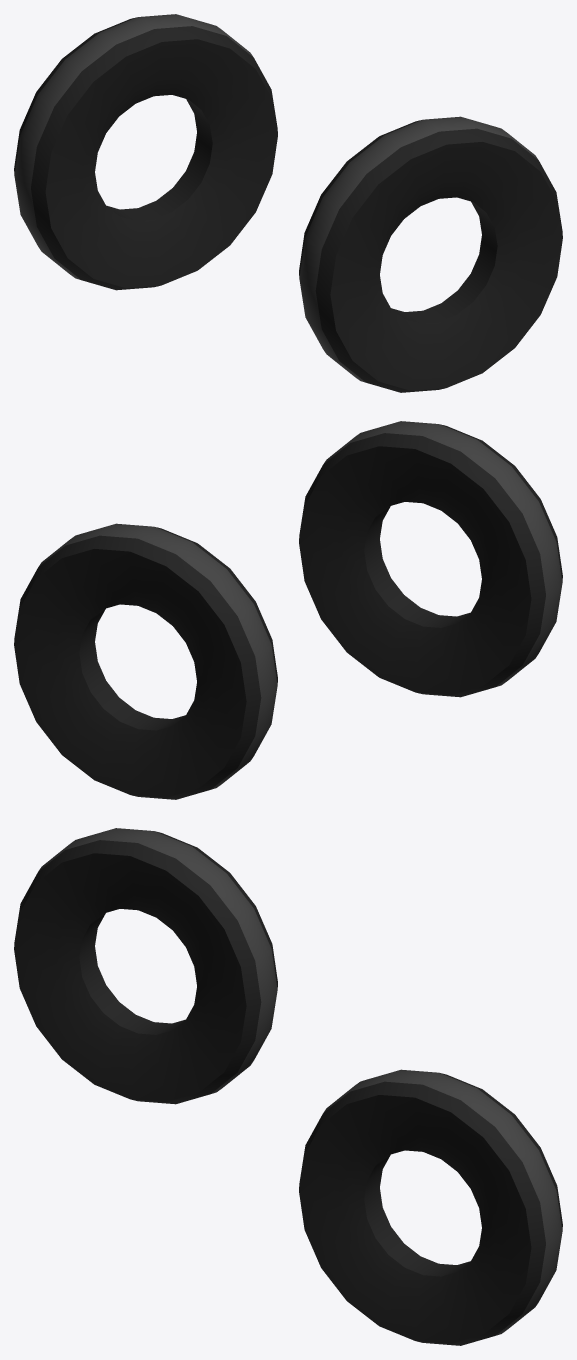
The model's file is Tire.fbx.
3 views of the same model, one above another, from view 1: azimuth 30°, elevation 25°; view 2: azimuth 150°, elevation 25°; view 3: azimuth 330°, elevation 25° (orthographic).
Parts seen in each view (by area): view 1: Tire-1, Tire-2; view 2: Tire-1, Tire-2; view 3: Tire-1, Tire-2.
Part boxes in pixels (box(x1,y1,x2,y2)): Tire-1: box(14, 14, 277, 290); Tire-2: box(299, 116, 562, 392); Tire-1: box(299, 421, 562, 697); Tire-2: box(14, 523, 277, 799); Tire-1: box(14, 828, 277, 1104); Tire-2: box(299, 1069, 562, 1345).
Size of the model in its own units: 2.53 by 1.96 by 0.2581.
